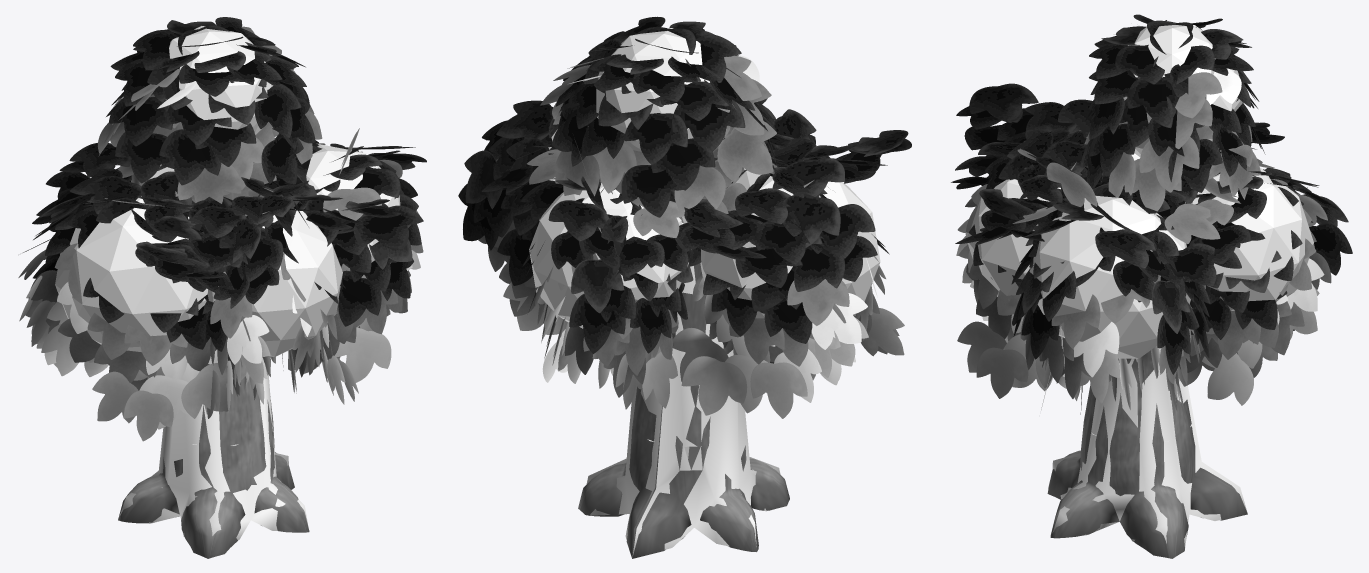
File: tree-hardwood-b.glb
3 renders of one model, left to right at view 1: azimuth 30°, elevation 25°; view 2: azimuth 150°, elevation 25°; view 3: azimuth 270°, elevation 25°, orthographic. The views are drawn at different scales.
Parts seen in each view (by area): view 1: Crown0__mTreeOakLeaf, Hull__mShadowShake, TrunkBottom__mPltTreeOakTrunk, Stem__mShadow; view 2: Crown0__mTreeOakLeaf, TrunkBottom__mPltTreeOakTrunk, Hull__mShadowShake, Stem__mShadow; view 3: Crown0__mTreeOakLeaf, Hull__mShadowShake, TrunkBottom__mPltTreeOakTrunk, Stem__mShadow.
Part boxes in pixels (x1,y1,x2,y2): Crown0__mTreeOakLeaf: (18,17,426,441); Hull__mShadowShake: (55,26,400,356); TrunkBottom__mPltTreeOakTrunk: (118,377,309,558); Stem__mShadow: (118,374,308,540); Crown0__mTreeOakLeaf: (458,16,911,418); TrunkBottom__mPltTreeOakTrunk: (578,249,789,558); Hull__mShadowShake: (529,28,880,328); Stem__mShadow: (586,223,780,557); Crown0__mTreeOakLeaf: (951,14,1352,420); Hull__mShadowShake: (967,25,1313,358); TrunkBottom__mPltTreeOakTrunk: (1047,350,1247,558); Stem__mShadow: (1052,348,1247,547).
Bounding box in the file's own units: 2.99 × 3.35 × 2.52.
5 materials, 3 textured.
